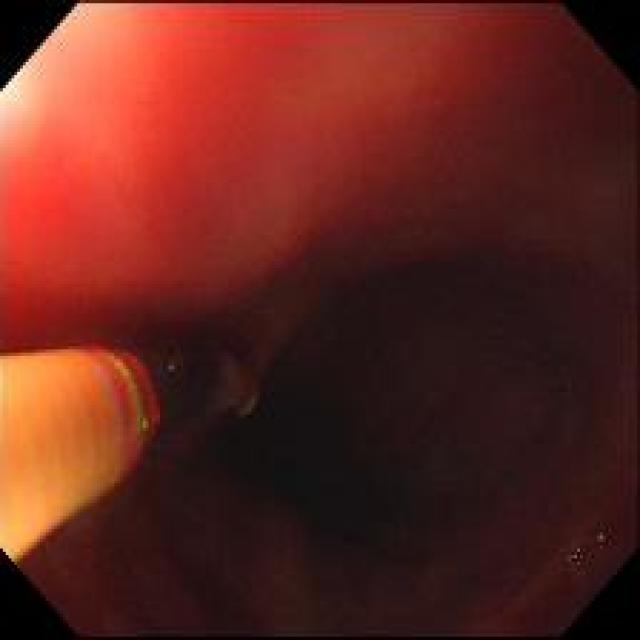color misalignment: (88, 351, 162, 476), (566, 549, 584, 572), (155, 360, 186, 373), (599, 532, 606, 550)
contrast: (153, 272, 633, 633)
instrument: (2, 350, 262, 563)
saturation: (2, 63, 30, 118)
